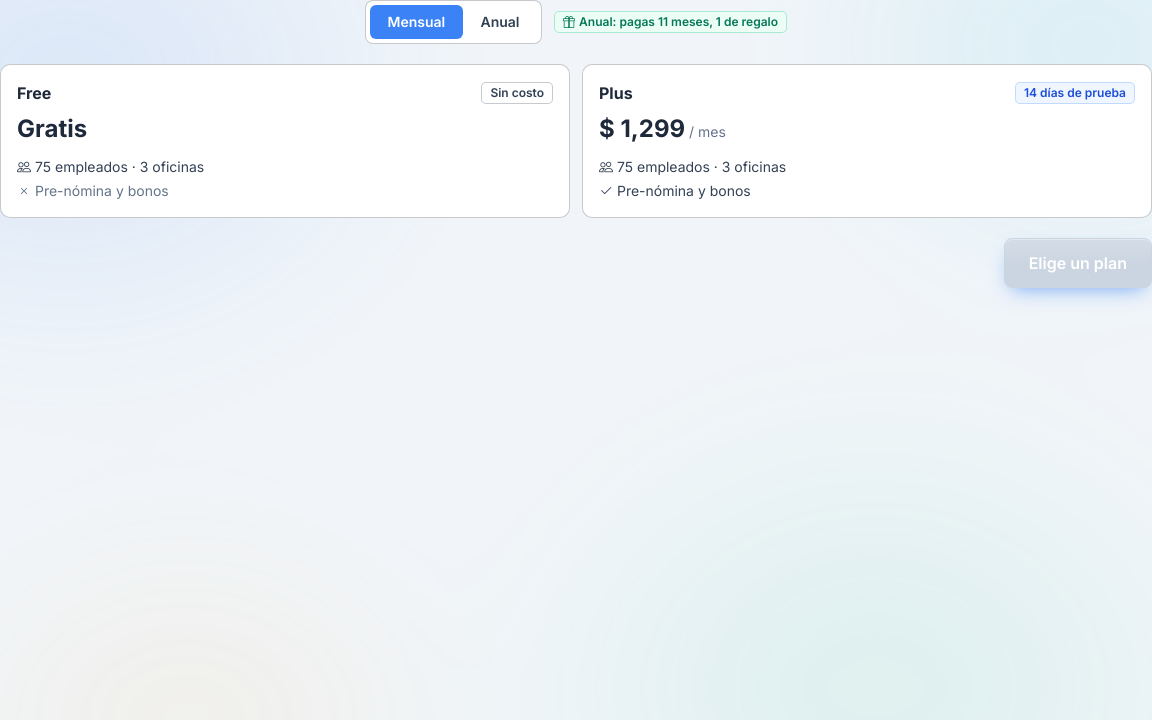
Test case: PlanCheckoutComponent › explains the trial and that the charge happens one day before it ends
Click the radio button that starts with "Plus" at coordinates (616, 93), box [582, 64, 1151, 218]
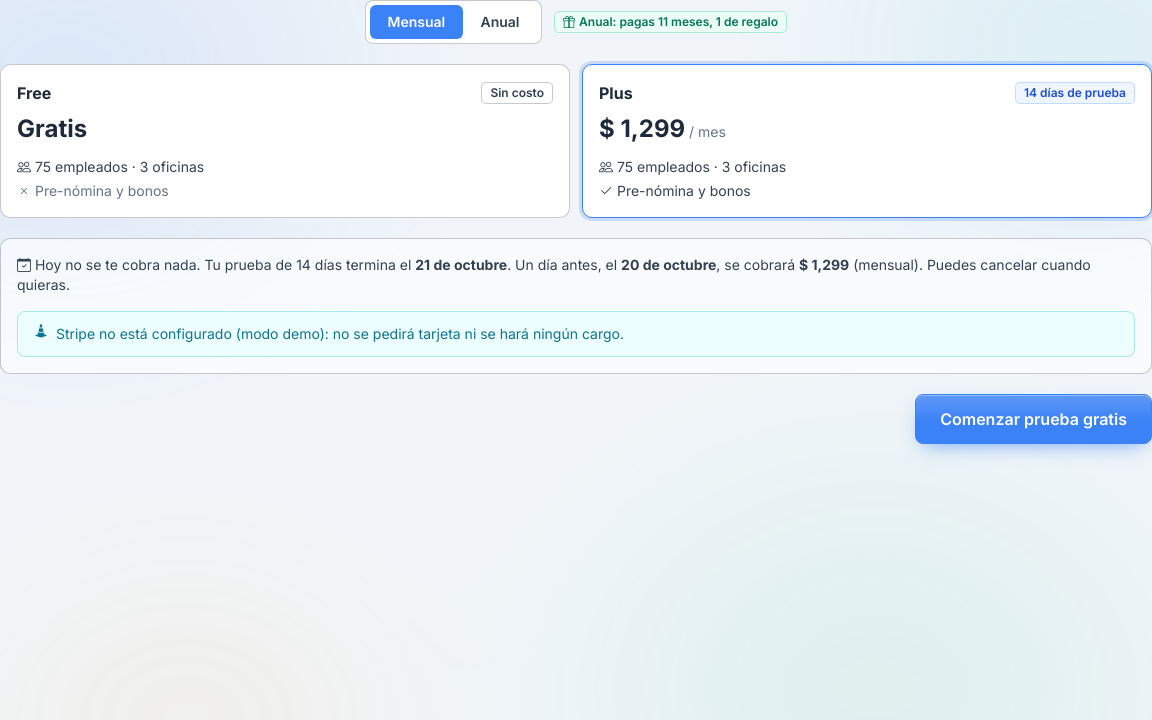
expect the text "Hoy no se te cobra nada" is shown: met, box [31, 256, 415, 273]
expect the text "Un día antes" is shown: met, box [507, 256, 621, 273]
expect the button "Comenzar prueba gratis" is shown: met, box [915, 394, 1151, 444]
